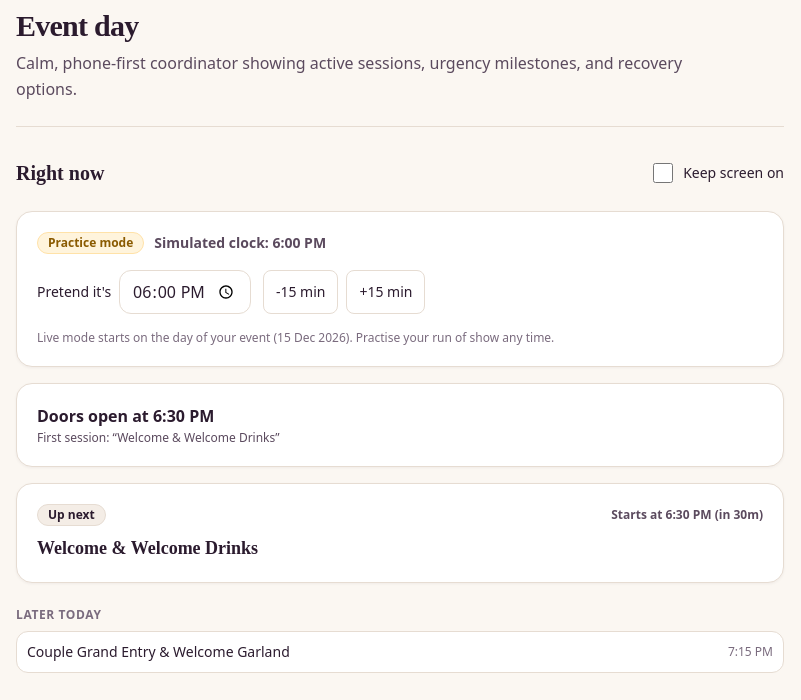
UI: Day-Of Page & Interactions (TASK 4 & 5) › updates simulated time, shows Happening now with minutes left, and announces only on change
This screenshot has width=801, height=700.
Welcome Drinks is 18:30 - 19:15. At 19:00 it is Happening now.
Replace the text in the time field labelled "Pretend it's" with "19:00" at point(185, 292), box left=119, top=270, right=251, bottom=314
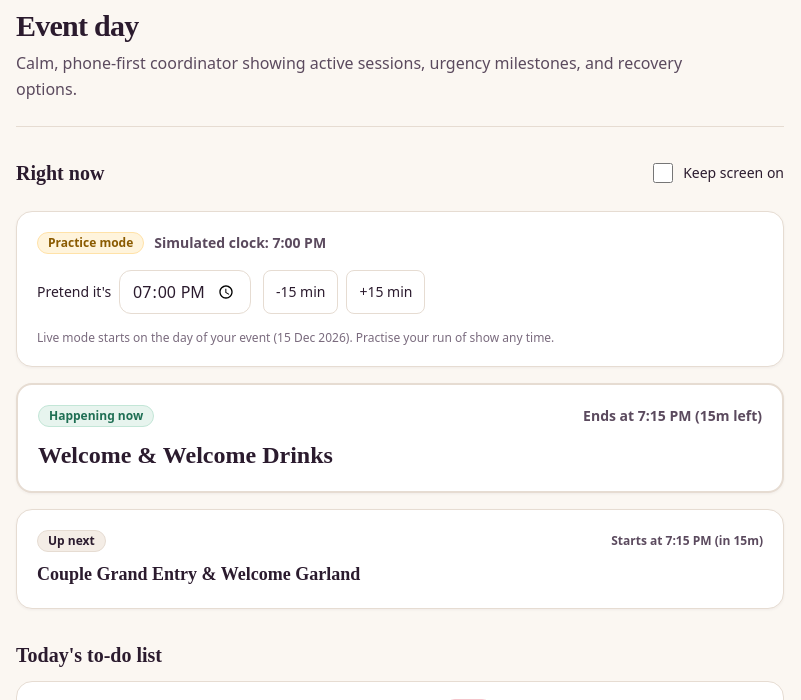
Expected: the heading "Welcome & Welcome Drinks" is shown, left=38, top=442, right=333, bottom=468
Now the text "Happening now" is shown, box left=38, top=405, right=154, bottom=427
Now the text "Ends at 7:15 PM (15m left)" is shown, box left=583, top=406, right=762, bottom=426
Pretend time is after all events: 22:00
Replace the text in the time field labelled "Pretend it's" with "22:00" at point(185, 292), box left=119, top=270, right=251, bottom=314
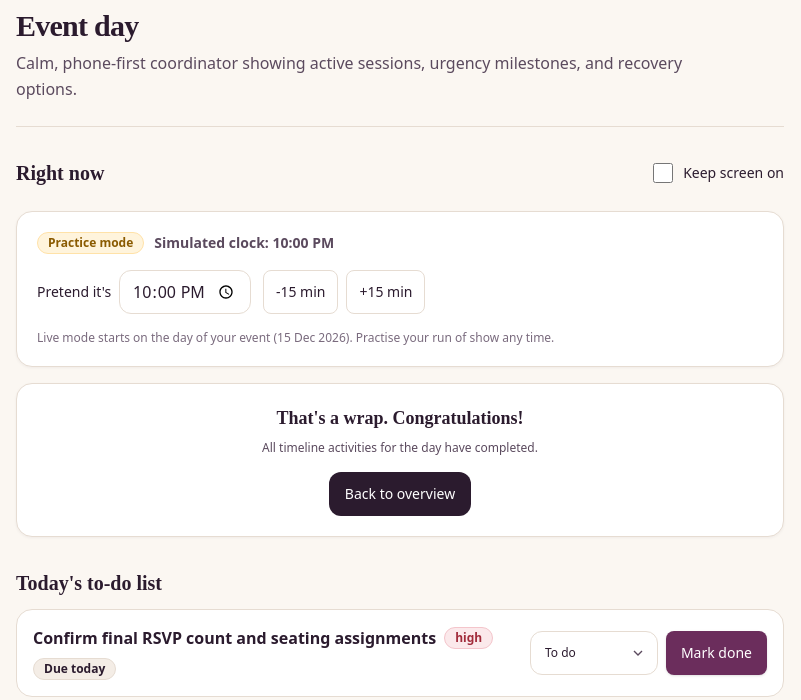
Now the text "That's a wrap. Congratulations!" is shown, box left=276, top=408, right=524, bottom=428
